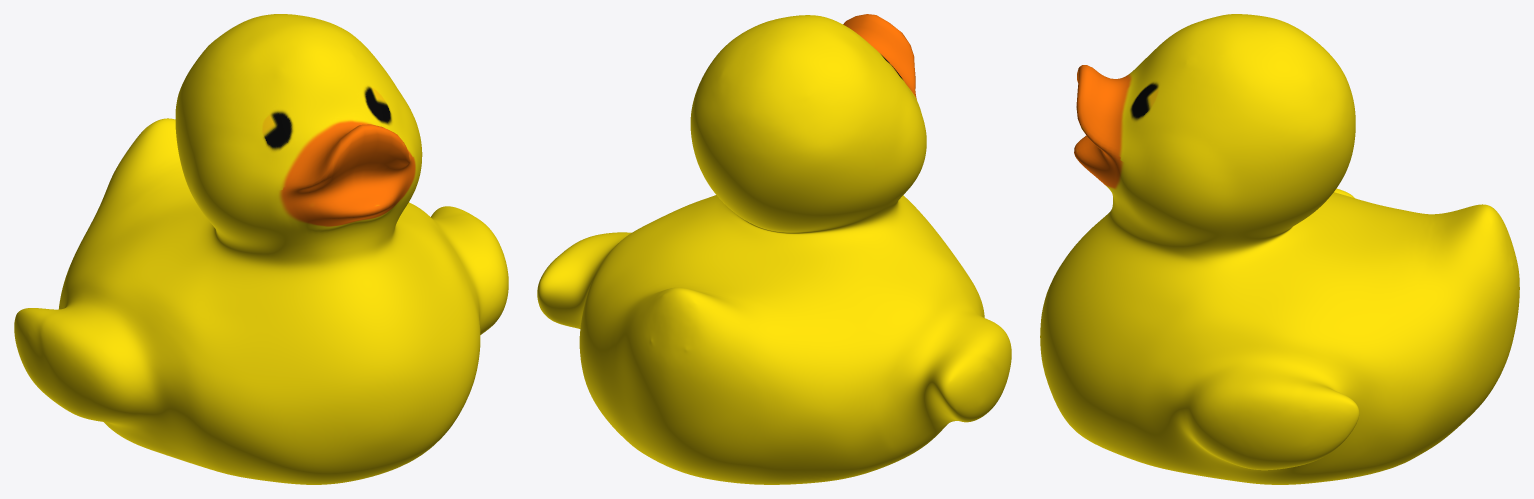
Rendered from rubberduck.fbx.
3 renders of one model, left to right at view 1: azimuth 30°, elevation 25°; view 2: azimuth 150°, elevation 25°; view 3: azimuth 270°, elevation 25°, orthographic. The views are drawn at different scales.
Parts seen in each view (by area): view 1: duck; view 2: duck; view 3: duck.
Part boxes in pixels (x1,y1,x2,y2): duck: (14, 14, 508, 484); duck: (537, 14, 1011, 484); duck: (1040, 14, 1519, 484).
Bounding box in the file's own units: 1.64 × 1.41 × 1.5.
1 material, 1 textured.
